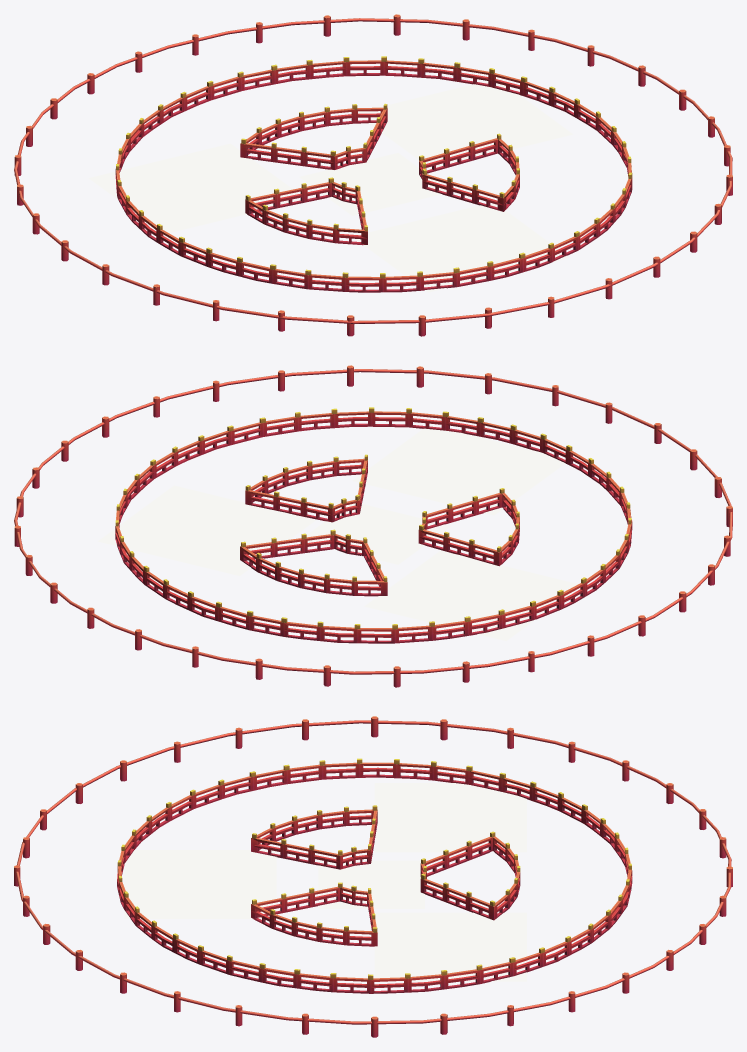
Rendered from Battle_Stage 3.fbx.
3 renders of one model, top to bottom at view 1: azimuth 30°, elevation 25°; view 2: azimuth 150°, elevation 25°; view 3: azimuth 270°, elevation 25°, orthographic.
Parts seen in each view (by area): view 1: Cube.081, Cube.073, Plane.041, Plane.042, Plane.043, Plane.040; view 2: Cube.081, Cube.073, Plane.042, Plane.043, Plane.041, Plane.040; view 3: Cube.081, Cube.073, Plane.041, Plane.043, Plane.042, Plane.040.
Part boxes in pixels (x1,y1,x2,y2): Cube.081: (115,56,632,292); Cube.073: (14,14,732,336); Plane.041: (89,143,300,232); Plane.042: (358,78,573,168); Plane.043: (355,203,569,292); Plane.040: (299,153,446,215); Cube.081: (115,407,632,643); Cube.073: (14,365,732,687); Plane.042: (98,485,315,575); Plane.043: (352,425,565,515); Plane.041: (364,550,578,640); Plane.040: (306,503,451,564); Cube.081: (117,758,632,993); Cube.073: (14,716,732,1037); Plane.041: (374,783,526,852); Plane.043: (124,850,276,918); Plane.042: (374,912,526,981); Plane.040: (318,860,424,908).
Size of what is drawn, in the model's own units: 12244 by 361 by 12285.
